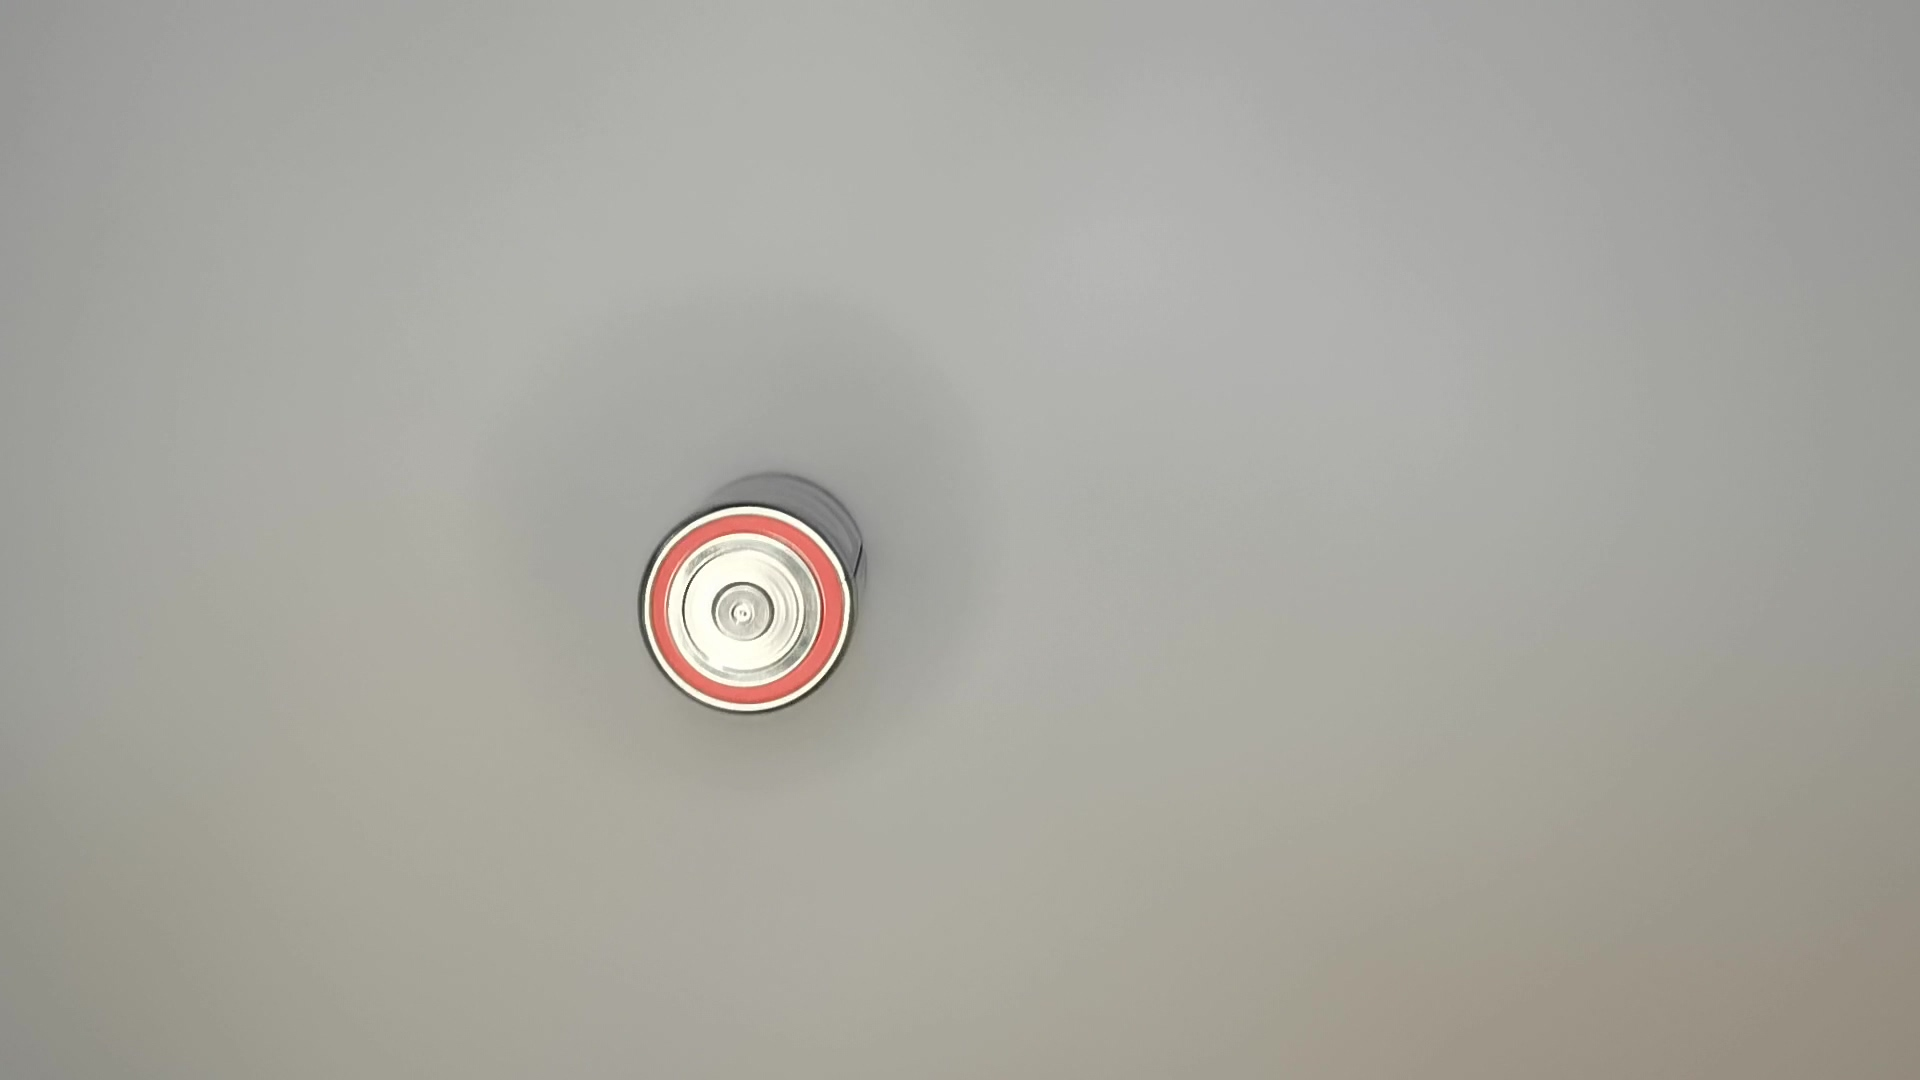battery: (634, 472, 877, 713)
